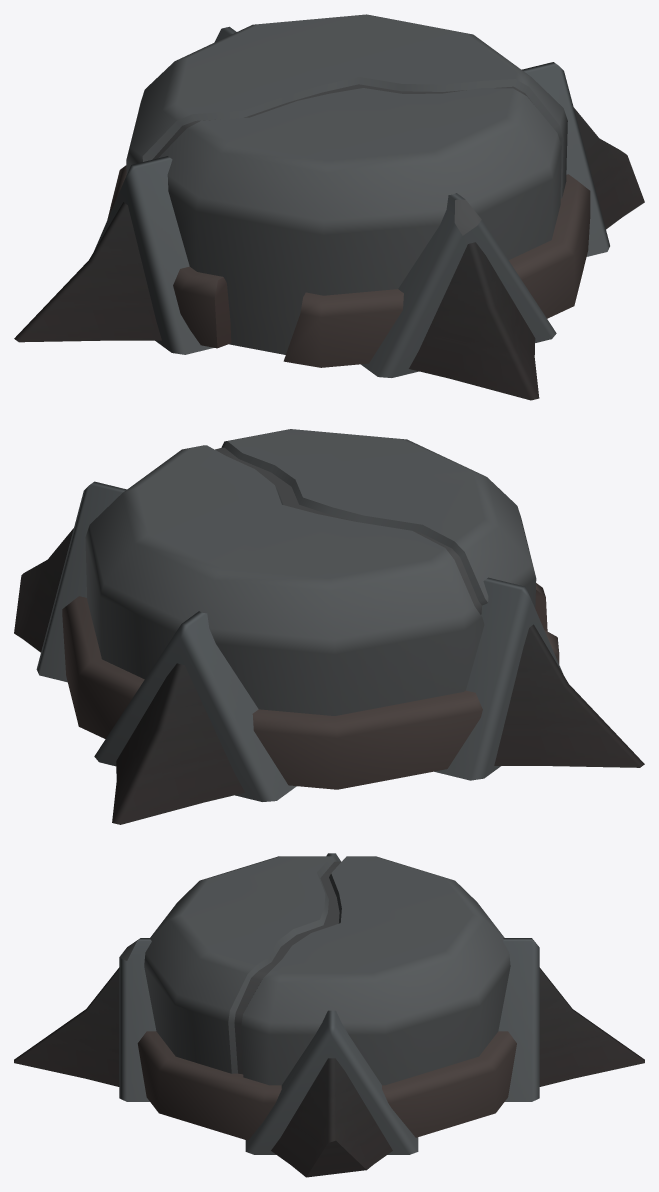
File: Pedestal_001.glb
3 renders of one model, top to bottom at view 1: azimuth 30°, elevation 25°; view 2: azimuth 150°, elevation 25°; view 3: azimuth 270°, elevation 25°, orthographic. The views are drawn at different scales.
Visible parts, largest first — view 1: Pedestal_001; view 2: Pedestal_001; view 3: Pedestal_001.
Boxes of the visible parts, x1,y1,x2,y2 form: Pedestal_001: (14, 14, 644, 400); Pedestal_001: (14, 429, 644, 824); Pedestal_001: (14, 853, 644, 1177).
Bounding box in the file's own units: 3.75 × 1.07 × 3.99.
1 material, 1 textured.
